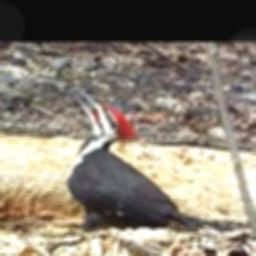Woodpecker: (66, 90, 233, 233)
